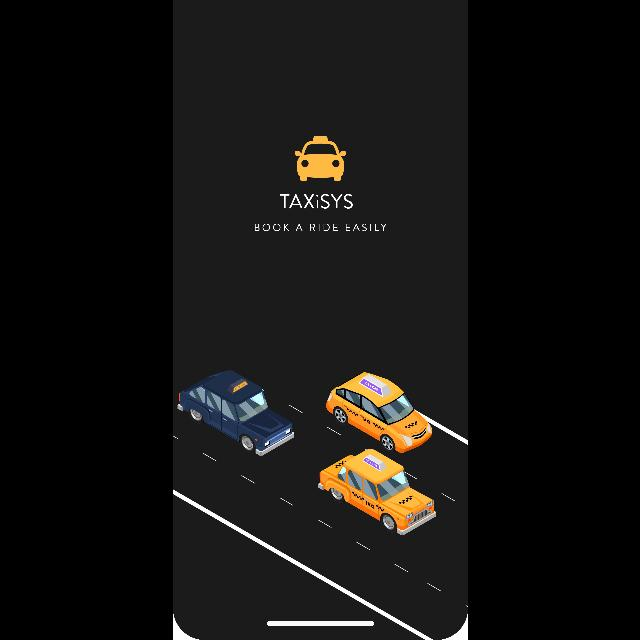backgroundimage: (172, 2, 468, 640)
image: (172, 370, 468, 640), (294, 136, 346, 182)
text: (280, 194, 352, 210), (254, 224, 386, 232)
